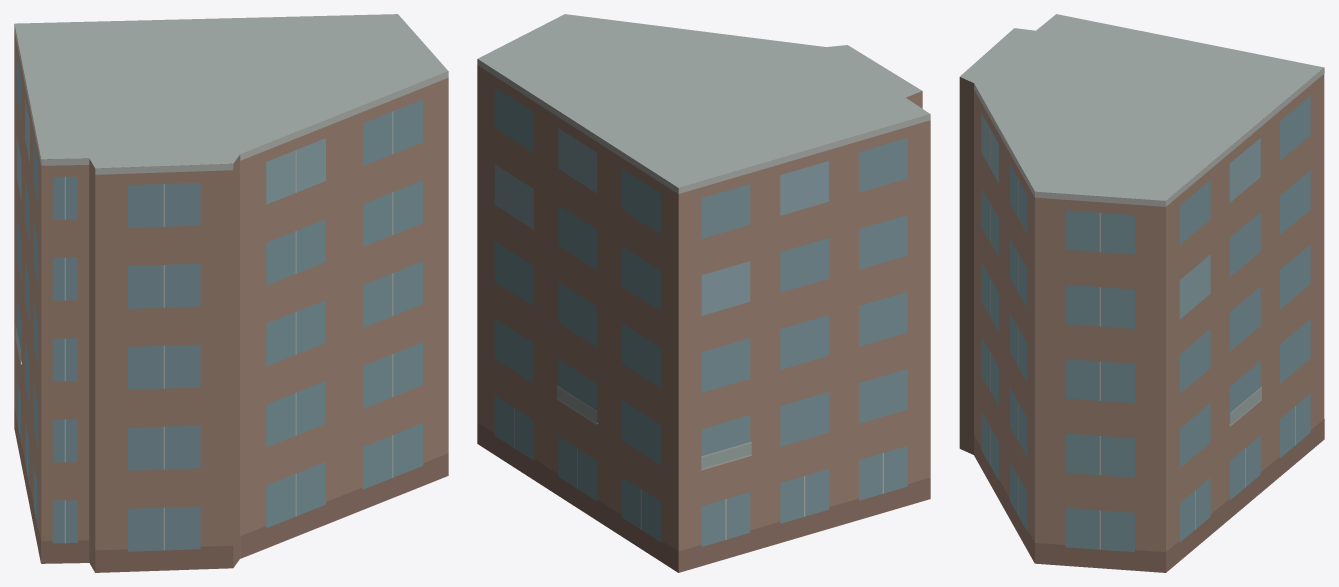
The model's file is survey-upis-32997223.glb.
The picture shows the model from 3 angles, left to right: view 1: azimuth 30°, elevation 25°; view 2: azimuth 150°, elevation 25°; view 3: azimuth 270°, elevation 25°; orthographic projection. The views are drawn at different scales.
Parts seen in each view (by area): view 1: survey-upis-32997223.tmp; view 2: survey-upis-32997223.tmp; view 3: survey-upis-32997223.tmp.
Part boxes in pixels (left/top/right/bottom): survey-upis-32997223.tmp: left=14, top=14, right=448, bottom=572; survey-upis-32997223.tmp: left=477, top=14, right=930, bottom=572; survey-upis-32997223.tmp: left=959, top=14, right=1324, bottom=572.
Bounding box in the file's own units: 16.28 × 15.1 × 13.43.
